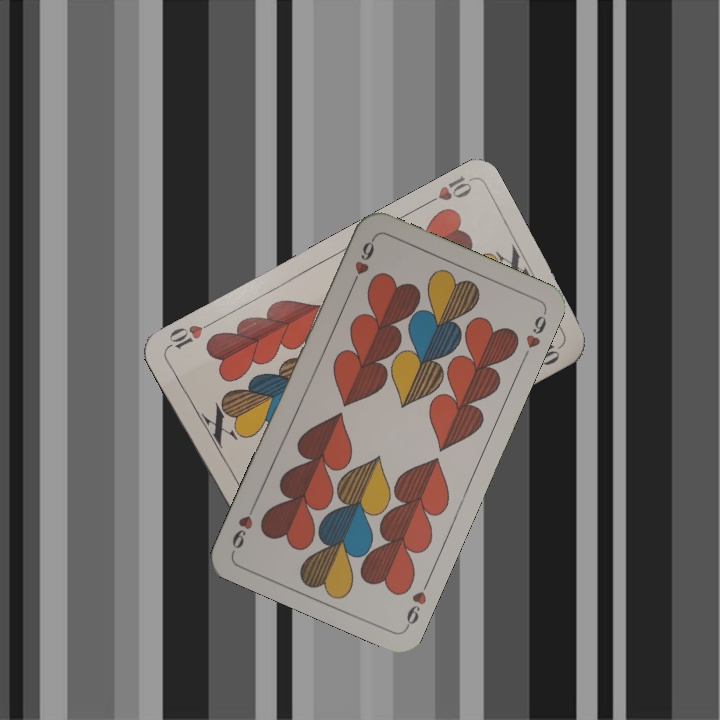H10: (419, 172, 475, 209)
H9: (402, 574, 433, 631), (347, 234, 378, 290)
